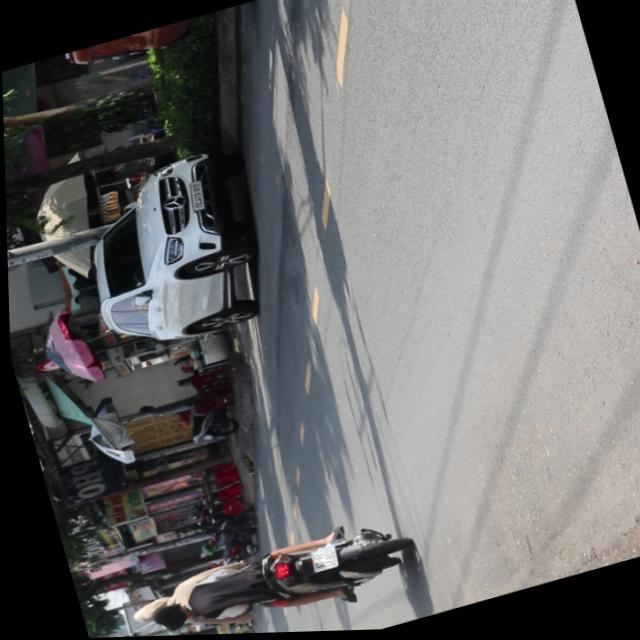helmet: (124, 594, 169, 626)
licenseplate: (117, 508, 416, 638)
motorcyclist: (146, 599, 188, 631)
nohelmet: (304, 545, 336, 574)
